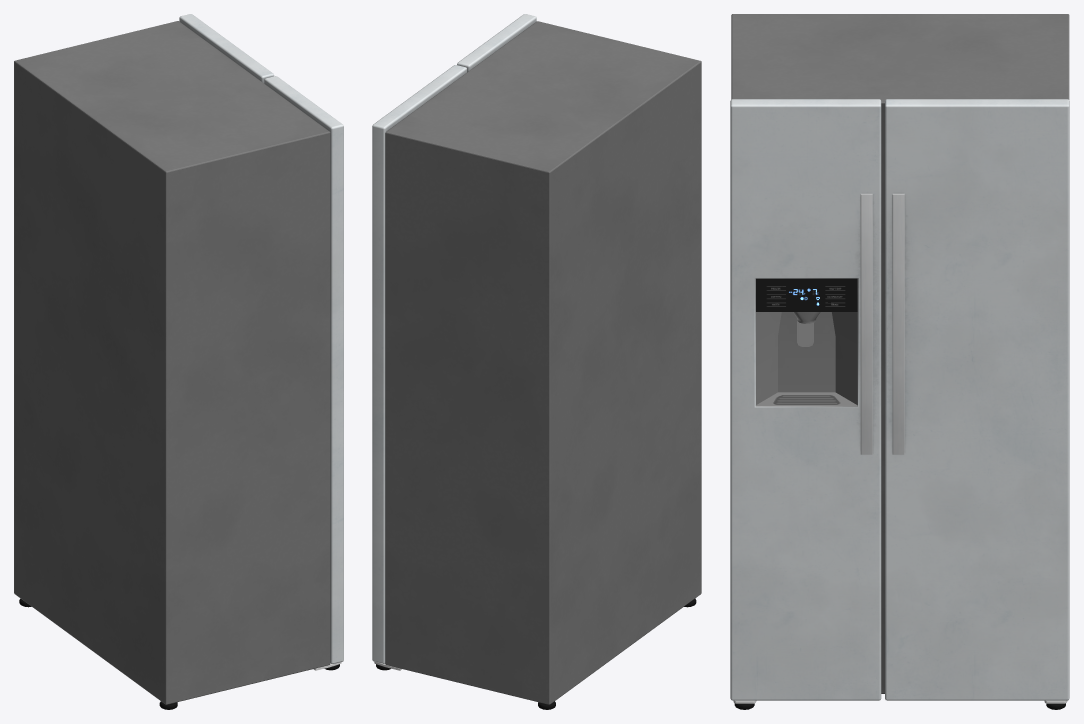
Rendered from fridge_stainless_Steel.fbx.
3 renders of one model, left to right at view 1: azimuth 30°, elevation 25°; view 2: azimuth 150°, elevation 25°; view 3: azimuth 270°, elevation 25°, orthographic. The views are drawn at different scales.
Parts seen in each view (by area): view 1: fridge_stainless_Steel; view 2: fridge_stainless_Steel; view 3: fridge_stainless_Steel.
Part boxes in pixels (left/top/right/bottom): fridge_stainless_Steel: left=14, top=14, right=343, bottom=709; fridge_stainless_Steel: left=372, top=14, right=701, bottom=709; fridge_stainless_Steel: left=730, top=14, right=1069, bottom=709.
Size of the model in its own units: 73.76 by 205 by 104.
